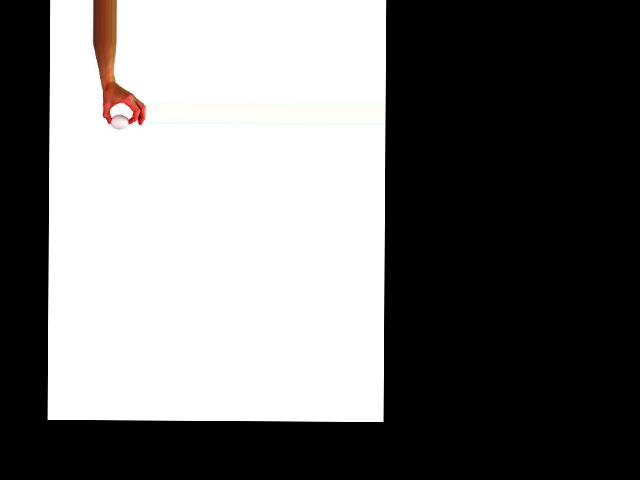egg: (110, 114, 128, 129)
